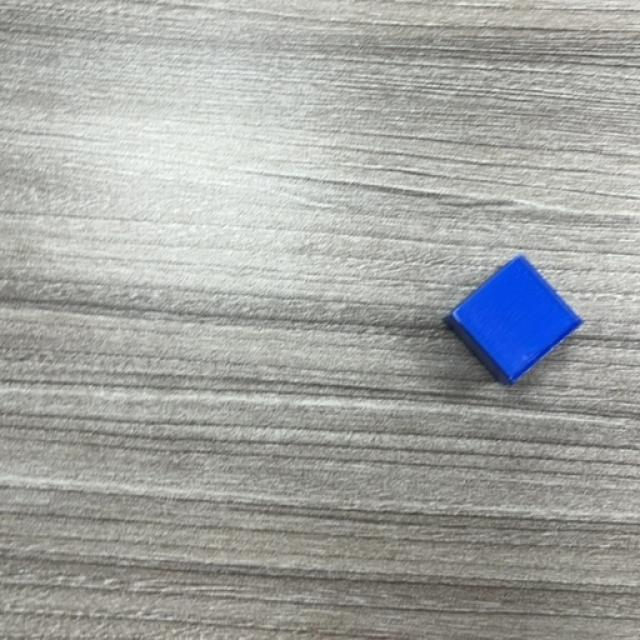Azul: (442, 256, 584, 388)
